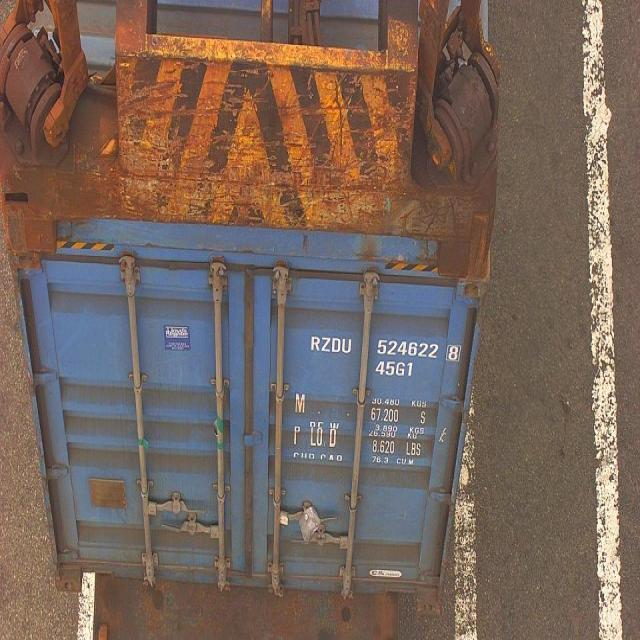ISO: (375, 361, 413, 376)
container_number: (310, 337, 457, 358)
